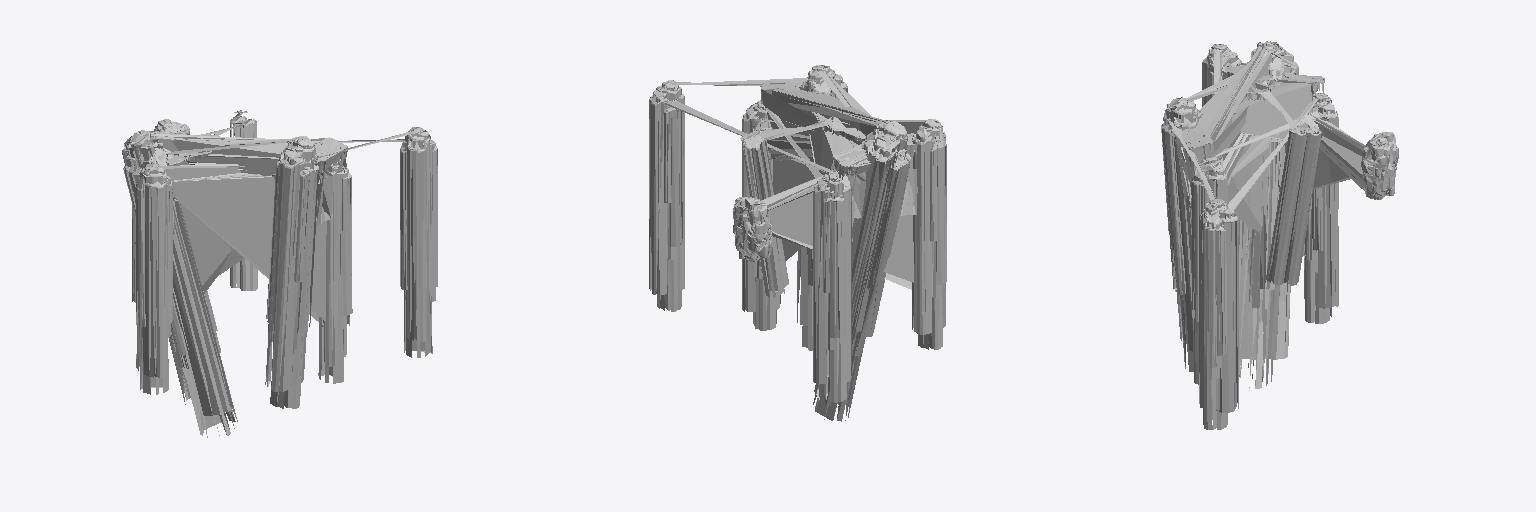
File: cellSea_FeralIsland_Proxy-sharedassets3.assets-659.obj
3 renders of one model, left to right at view 1: azimuth 30°, elevation 25°; view 2: azimuth 150°, elevation 25°; view 3: azimuth 270°, elevation 25°, orthographic.
Visible parts, largest first — view 1: cellSea_FeralIsland_Proxy_1, cellSea_FeralIsland_Proxy_0; view 2: cellSea_FeralIsland_Proxy_1, cellSea_FeralIsland_Proxy_0, cellSea_FeralIsland_Proxy_2; view 3: cellSea_FeralIsland_Proxy_1, cellSea_FeralIsland_Proxy_0, cellSea_FeralIsland_Proxy_2.
Part boxes in pixels (bbox=[...]): cellSea_FeralIsland_Proxy_1: bbox=[122, 110, 437, 437]; cellSea_FeralIsland_Proxy_0: bbox=[135, 120, 352, 394]; cellSea_FeralIsland_Proxy_1: bbox=[649, 65, 946, 421]; cellSea_FeralIsland_Proxy_0: bbox=[733, 101, 946, 349]; cellSea_FeralIsland_Proxy_2: bbox=[733, 197, 772, 261]; cellSea_FeralIsland_Proxy_1: bbox=[1161, 41, 1398, 429]; cellSea_FeralIsland_Proxy_0: bbox=[1192, 44, 1398, 384]; cellSea_FeralIsland_Proxy_2: bbox=[1361, 132, 1398, 199].
Bounding box in the file's own units: 99.02 × 100 × 68.87.